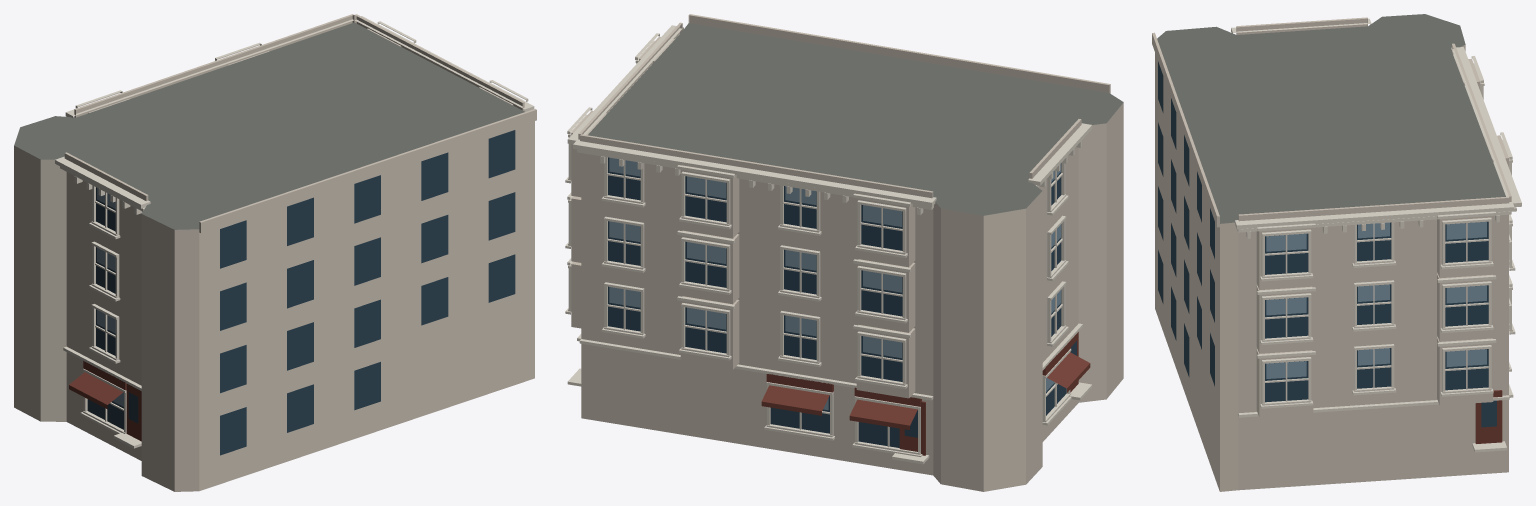
3 renders of one model, left to right at view 1: azimuth 30°, elevation 25°; view 2: azimuth 150°, elevation 25°; view 3: azimuth 270°, elevation 25°, orthographic. The views are drawn at different scales.
Visible parts, largest first — view 1: Footprint 0 / surface 2, Footprint 0 / surface 1, Inset glazing, Facade bay volumes, Cornices and window frames, Storefronts and doors, Sky reflection panels; view 2: Footprint 0 / surface 2, Footprint 0 / surface 1, Cornices and window frames, Facade bay volumes, Inset glazing, Sky reflection panels, Storefronts and doors; view 3: Footprint 0 / surface 2, Footprint 0 / surface 1, Cornices and window frames, Inset glazing, Facade bay volumes, Sky reflection panels, Storefronts and doors.
Part boxes in pixels (x1,y1,x2,y2): Footprint 0 / surface 2: (14,121,534,491); Footprint 0 / surface 1: (14,22,524,229); Inset glazing: (87,130,515,455); Facade bay volumes: (64,14,536,233); Cornices and window frames: (55,16,534,448); Storefronts and doors: (69,361,141,441); Sky reflection panels: (97,188,123,406); Footprint 0 / surface 2: (581,103,1123,491); Footprint 0 / surface 1: (588,23,1123,215); Cornices and window frames: (565,25,1092,464); Facade bay volumes: (571,14,1110,398); Inset glazing: (608,157,1076,447); Sky reflection panels: (609,157,1060,410); Storefronts and doors: (761,332,1090,455); Footprint 0 / surface 2: (1155,44,1508,491); Footprint 0 / surface 1: (1157,14,1505,223); Cornices and window frames: (1231,18,1521,452); Inset glazing: (1158,61,1496,427); Facade bay volumes: (1152,17,1511,417); Sky reflection panels: (1266,221,1486,378); Storefronts and doors: (1475,390,1502,443).
Bounding box in the file's own units: 21.2 × 12.56 × 15.27.
